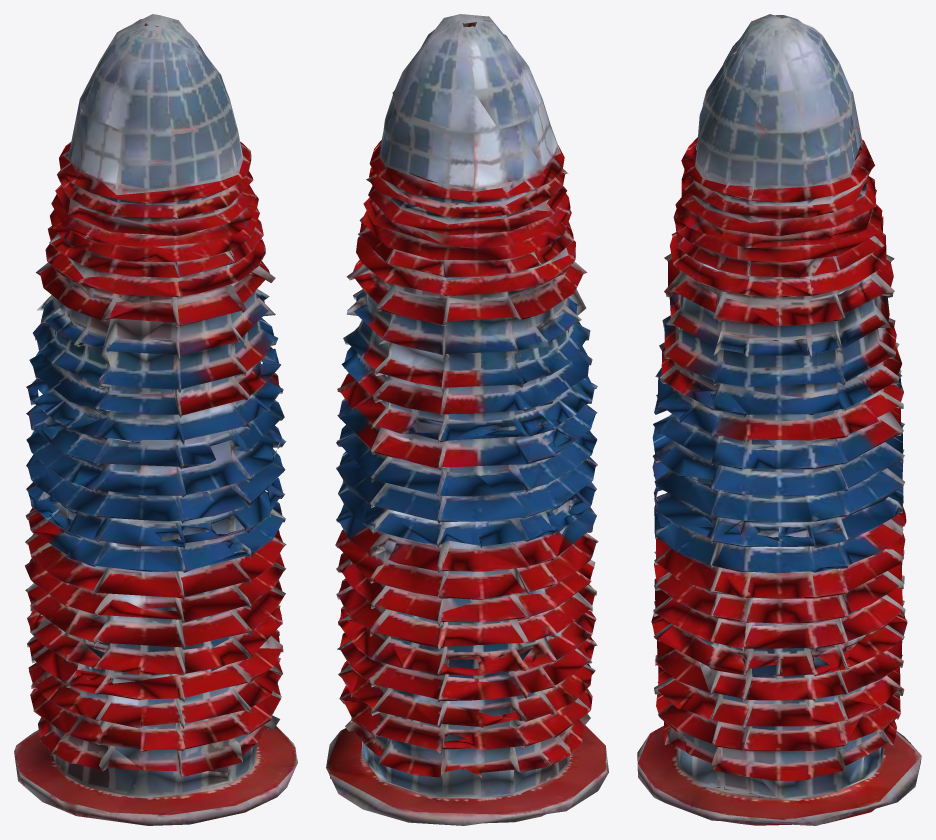
Rendered from barcelona-torre.glb.
3 renders of one model, left to right at view 1: azimuth 30°, elevation 25°; view 2: azimuth 150°, elevation 25°; view 3: azimuth 270°, elevation 25°, orthographic.
Visible parts, largest first — view 1: geometry_0; view 2: geometry_0; view 3: geometry_0.
Boxes of the visible parts, x1,y1,x2,y2 form: geometry_0: [14, 14, 297, 825]; geometry_0: [326, 14, 608, 825]; geometry_0: [637, 14, 921, 825].
Size of the model in its own units: 0.3418 by 1 by 0.342.
Materials: 1 (1 with a texture image).
